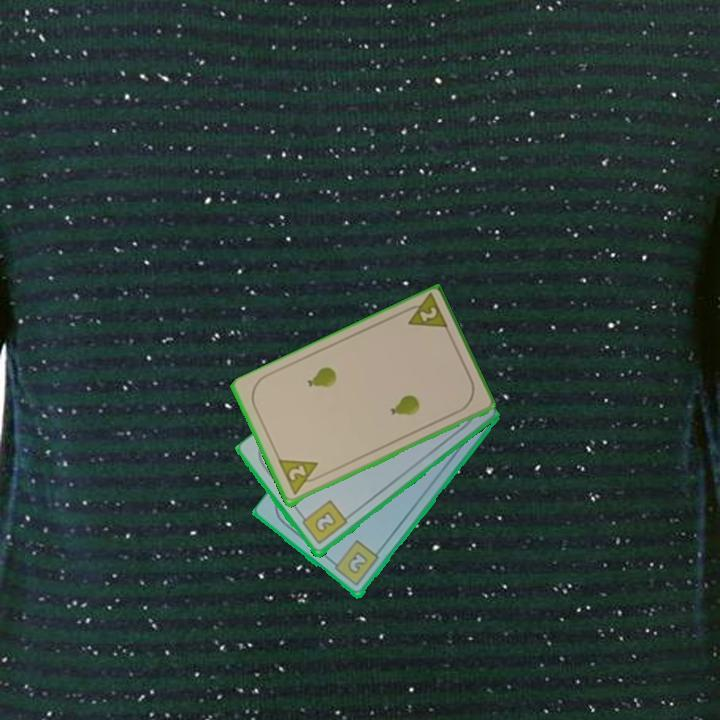2b: (328, 537, 382, 589), (296, 497, 350, 548)
2p: (398, 292, 451, 334), (275, 456, 326, 498)
